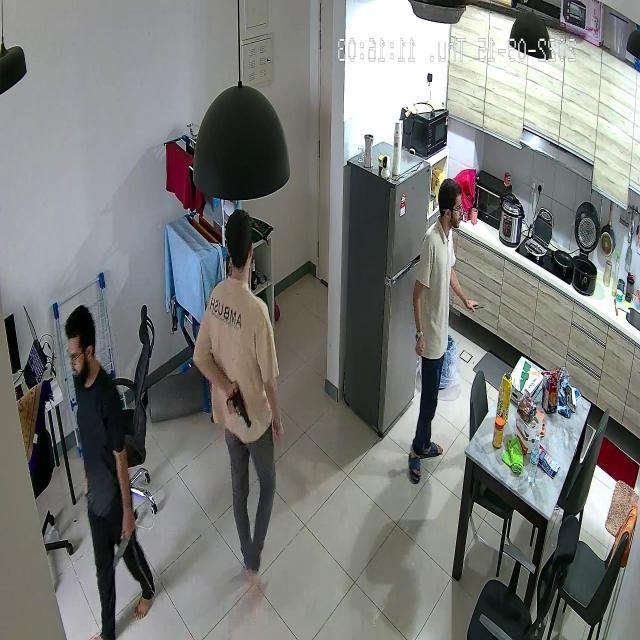Gun: (221, 378, 262, 440)
Knife: (107, 530, 136, 572)
